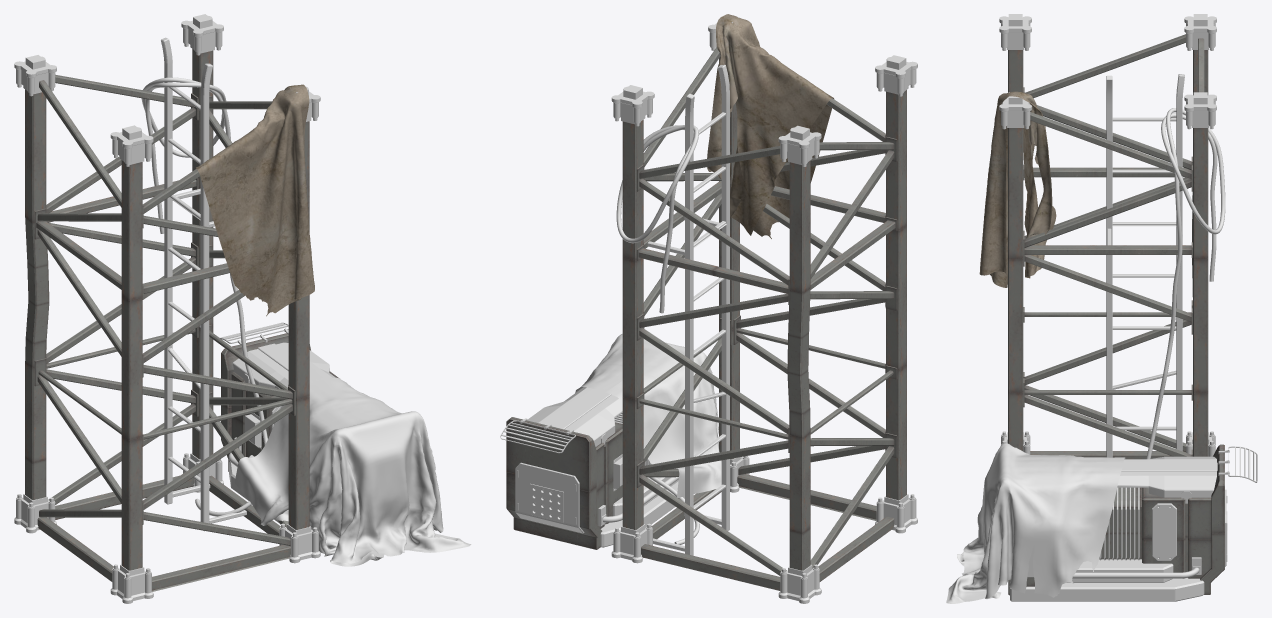
The model's file is PowerGeneratorF.fbx.
3 renders of one model, left to right at view 1: azimuth 30°, elevation 25°; view 2: azimuth 150°, elevation 25°; view 3: azimuth 270°, elevation 25°, orthographic. The views are drawn at different scales.
Visible parts, largest first — view 1: PowerGeneratorF; view 2: PowerGeneratorF; view 3: PowerGeneratorF.
Part boxes in pixels (<box>): PowerGeneratorF: <box>14,14,471,603</box>; PowerGeneratorF: <box>500,14,917,603</box>; PowerGeneratorF: <box>946,14,1257,603</box>.
Bounding box in the file's own units: 2.35 × 3.29 × 2.07.
